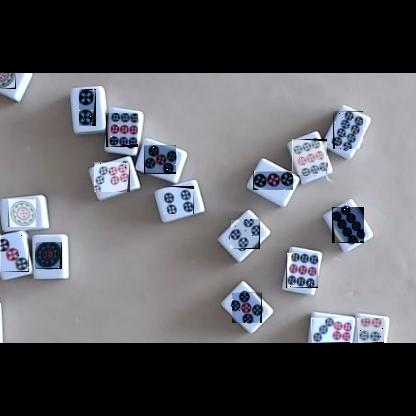1p: (8, 199, 36, 227), (35, 242, 62, 269), (0, 73, 16, 89)
2p: (79, 89, 96, 126)
3p: (0, 234, 29, 272), (253, 171, 293, 190)
4p: (230, 219, 260, 249), (164, 186, 194, 214)
5p: (232, 292, 262, 323), (144, 145, 176, 174)
6p: (357, 318, 384, 343)
7p: (94, 162, 130, 192), (311, 318, 350, 343)
8p: (332, 207, 364, 243), (333, 111, 363, 149)
9p: (292, 139, 327, 175), (286, 253, 318, 288), (106, 113, 138, 147)
